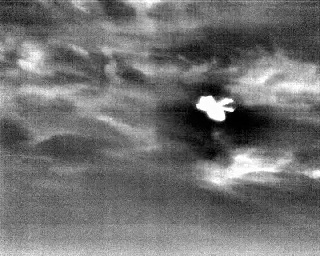HELICOPTER: (194, 89, 239, 127)
